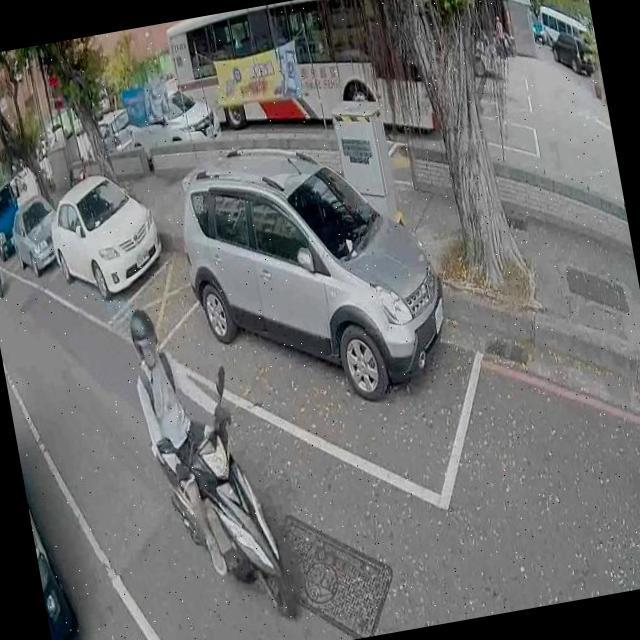person: (120, 290, 262, 590), (492, 8, 512, 57)
